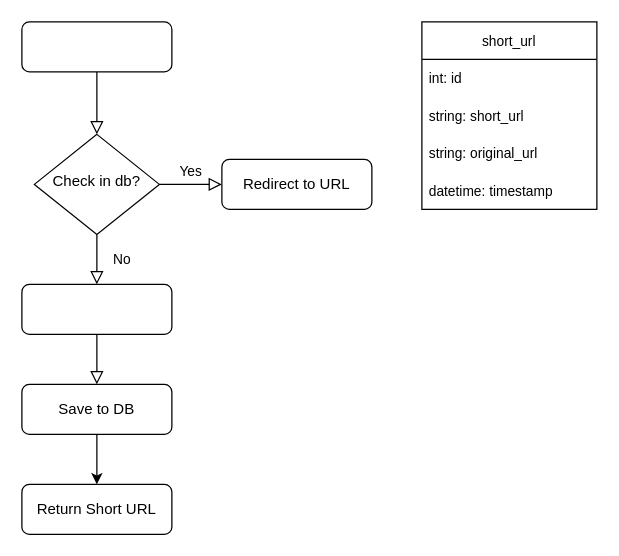
The diagram is 619 pixels wide and 556 high, and some of its shapes have lost their labels. Here are the shapes that lost their labels. From the top down, the box of each, then its label:
(21, 21, 172, 72): User input long URL
(21, 283, 172, 334): Generate Short URL
